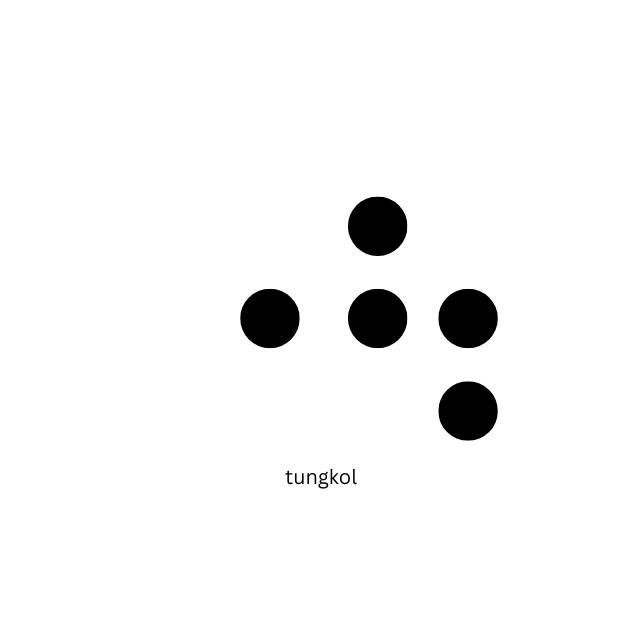dot_5: (146, 193, 307, 445)
two_cell_non_alphabet_tungkol: (345, 193, 499, 444)
